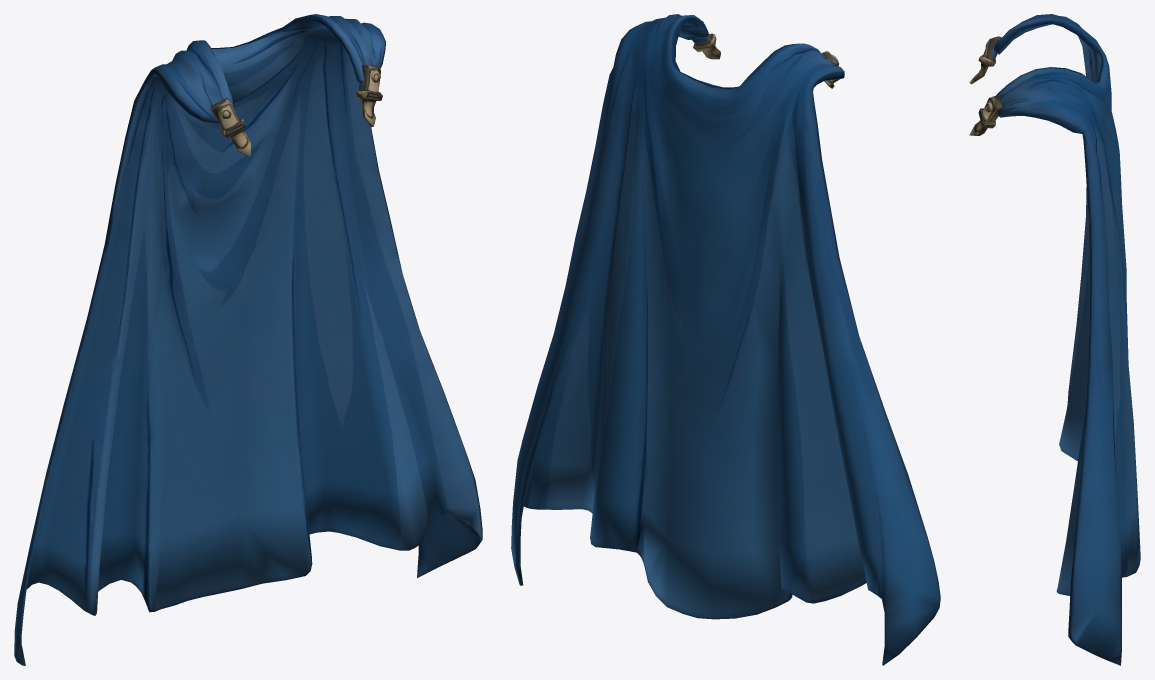
Rendered from basit_pelerin.fbx.
3 renders of one model, left to right at view 1: azimuth 30°, elevation 25°; view 2: azimuth 150°, elevation 25°; view 3: azimuth 270°, elevation 25°, orthographic. The views are drawn at different scales.
Parts seen in each view (by area): view 1: tripo_node_48dd40f6; view 2: tripo_node_48dd40f6; view 3: tripo_node_48dd40f6.
Boxes of the visible parts, x1,y1,x2,y2 form: tripo_node_48dd40f6: (14, 14, 482, 665); tripo_node_48dd40f6: (511, 14, 940, 665); tripo_node_48dd40f6: (969, 14, 1140, 665).
Bounding box in the file's own units: 0.7847 × 1 × 0.2877.
Materials: 1 (1 with a texture image).
